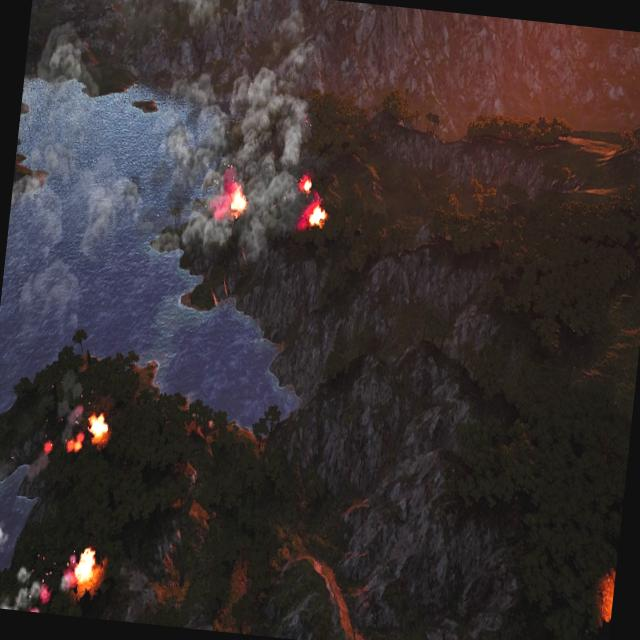fire: (60, 542, 106, 596), (214, 178, 248, 222), (299, 196, 326, 231), (86, 416, 109, 444), (64, 427, 85, 456), (297, 172, 315, 192), (42, 438, 56, 456)
smoke: (0, 14, 161, 416), (142, 0, 330, 290), (0, 559, 53, 613), (0, 515, 13, 564)
